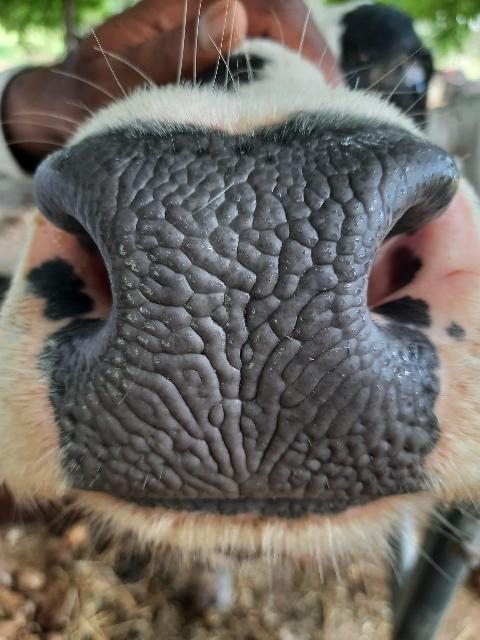Muzzle: (102, 152, 384, 498)
